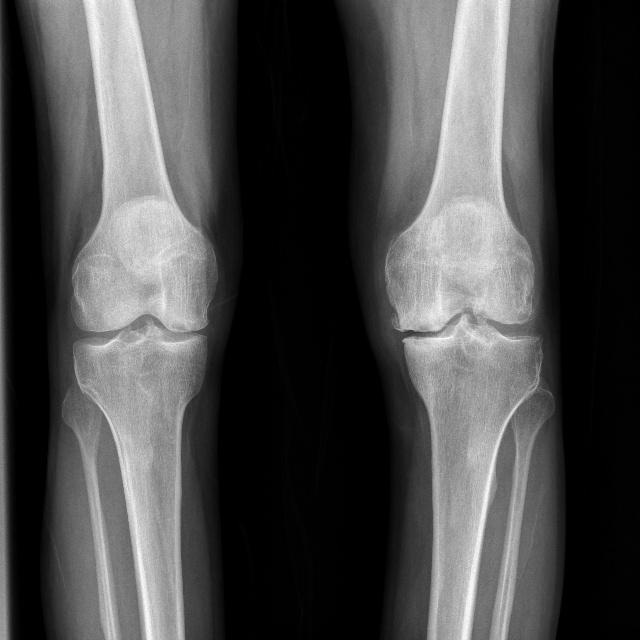Knee: (64, 217, 217, 408), (382, 230, 544, 405)
